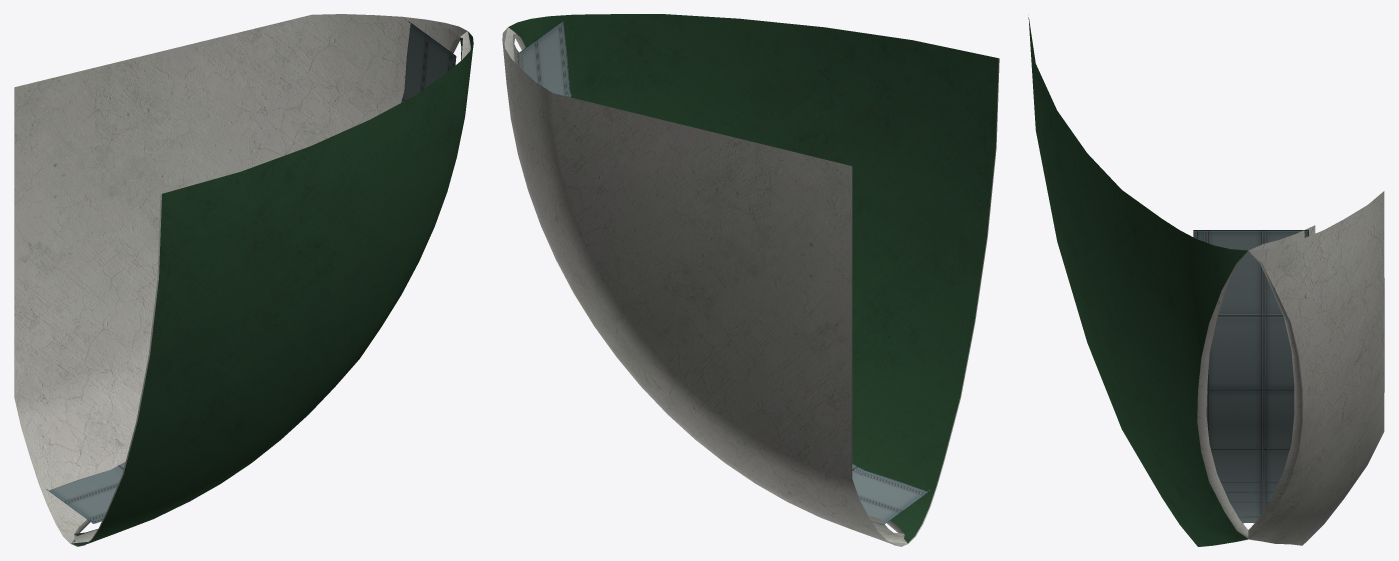
File: nt_2020_house_04_section_LOD0.obj
The picture shows the model from 3 angles, left to right: view 1: azimuth 30°, elevation 25°; view 2: azimuth 150°, elevation 25°; view 3: azimuth 270°, elevation 25°; orthographic projection. The views are drawn at different scales.
Visible parts, largest first — view 1: mtl_nt_2020_plaster_whitewall_01, mtl_nt_2020_plastic_red_roof, glass_clear_wall_opaque_white; view 2: mtl_nt_2020_plaster_whitewall_01, mtl_nt_2020_plastic_red_roof, glass_clear_wall_opaque_white; view 3: mtl_nt_2020_plastic_red_roof, mtl_nt_2020_plaster_whitewall_01, glass_clear_wall_opaque_white.
Boxes of the visible parts, left/top/right/bottom form: mtl_nt_2020_plaster_whitewall_01: left=14, top=14, right=470, bottom=546; mtl_nt_2020_plastic_red_roof: left=71, top=31, right=473, bottom=546; glass_clear_wall_opaque_white: left=46, top=21, right=456, bottom=523; mtl_nt_2020_plaster_whitewall_01: left=502, top=27, right=999, bottom=546; mtl_nt_2020_plastic_red_roof: left=508, top=14, right=998, bottom=542; glass_clear_wall_opaque_white: left=517, top=19, right=930, bottom=525; mtl_nt_2020_plastic_red_roof: left=1028, top=17, right=1247, bottom=546; mtl_nt_2020_plaster_whitewall_01: left=1197, top=191, right=1384, bottom=546; glass_clear_wall_opaque_white: left=1193, top=230, right=1308, bottom=522.
Bounding box in the file's own units: 1360 × 1358 × 866.
